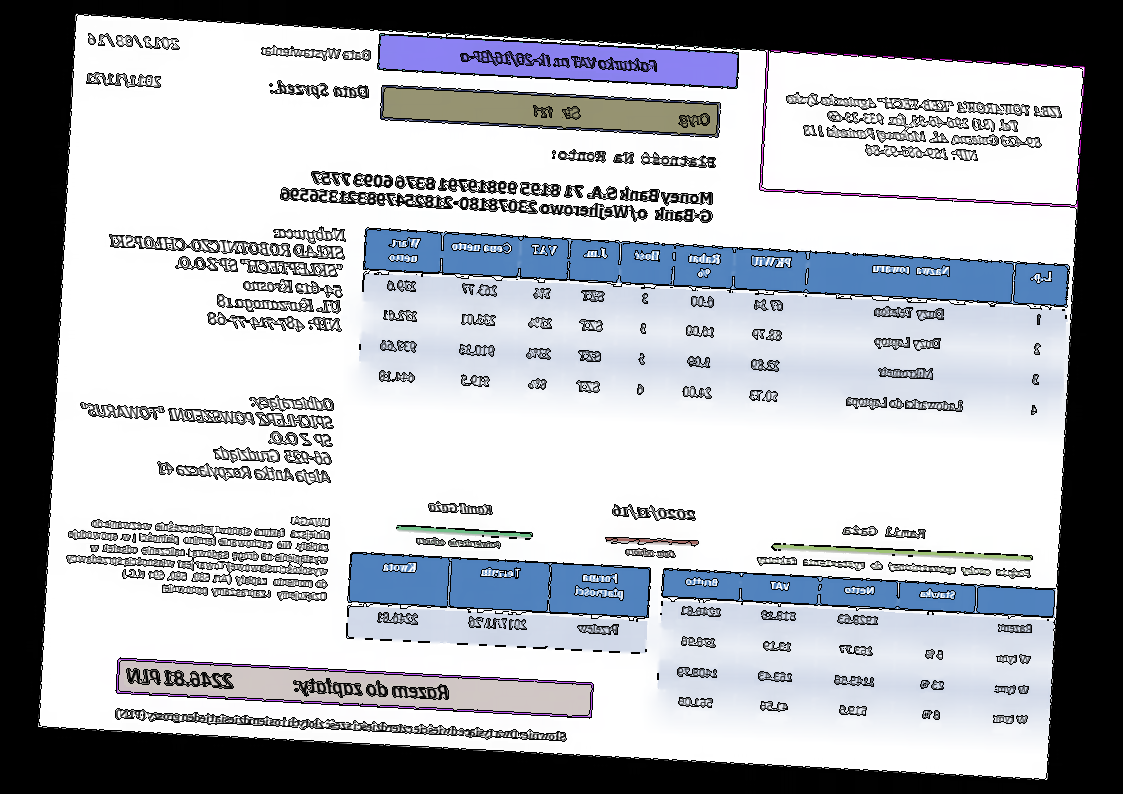Table: (357, 225, 1071, 430), (655, 567, 1057, 740), (346, 550, 652, 655)
TextBox: (103, 213, 349, 337), (61, 501, 334, 605), (72, 382, 339, 488), (277, 165, 716, 227), (782, 86, 1065, 169), (113, 704, 570, 745), (123, 663, 453, 705), (754, 551, 1033, 582), (457, 46, 663, 77), (530, 101, 713, 131), (550, 145, 720, 173), (261, 78, 373, 103), (258, 40, 374, 63), (85, 30, 183, 54), (611, 501, 700, 524), (838, 522, 928, 542), (83, 69, 165, 90), (415, 533, 503, 552), (426, 498, 497, 518), (622, 545, 678, 561)
